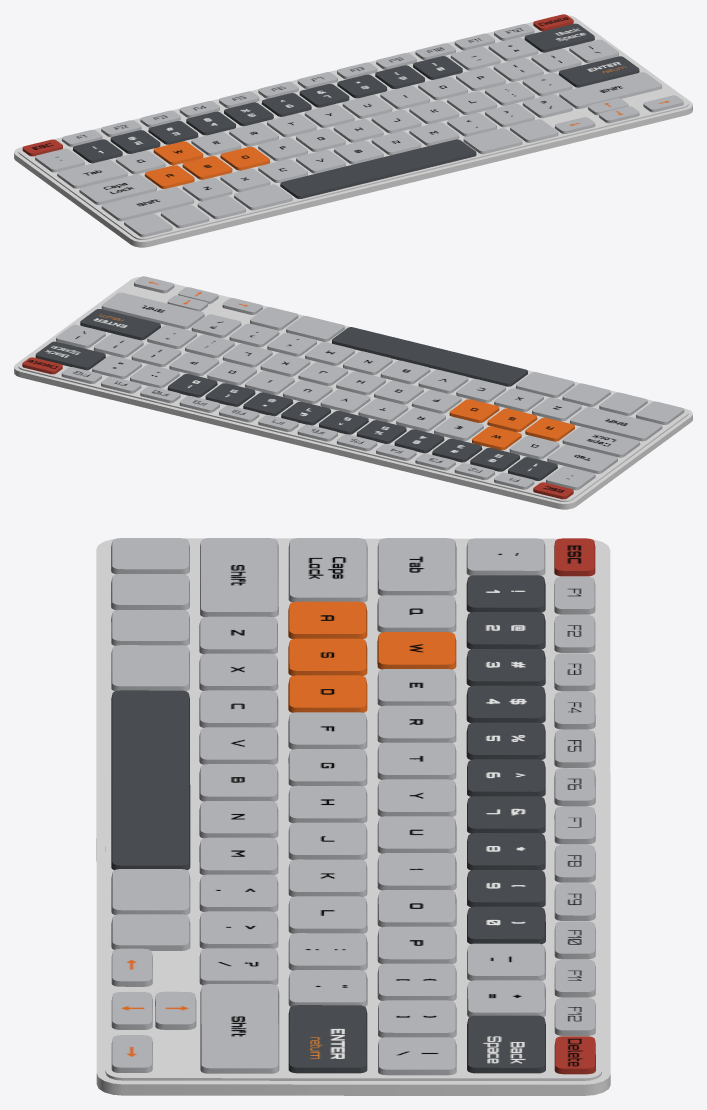
Rendered from office_keyboard.fbx.
3 renders of one model, top to bottom at view 1: azimuth 30°, elevation 25°; view 2: azimuth 150°, elevation 25°; view 3: azimuth 270°, elevation 25°, orthographic. The views are drawn at different scales.
Parts seen in each view (by area): view 1: office_keyboard_keyboard; view 2: office_keyboard_keyboard; view 3: office_keyboard_keyboard.
Boxes of the visible parts, x1,y1,x2,y2 form: office_keyboard_keyboard: [14, 14, 692, 247]; office_keyboard_keyboard: [14, 276, 692, 509]; office_keyboard_keyboard: [96, 538, 610, 1095].
Bounding box in the file's own units: 18.3 × 0.3233 × 7.28.
Materials: 2 (1 with a texture image).
